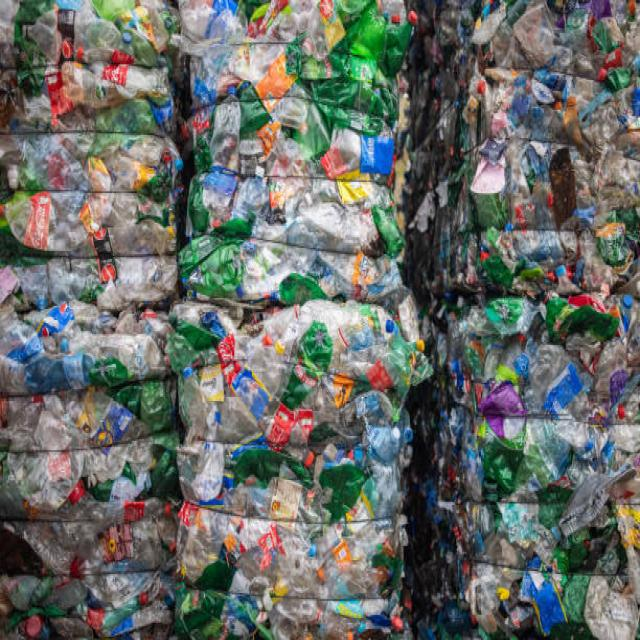plastic: (3, 2, 635, 635)
